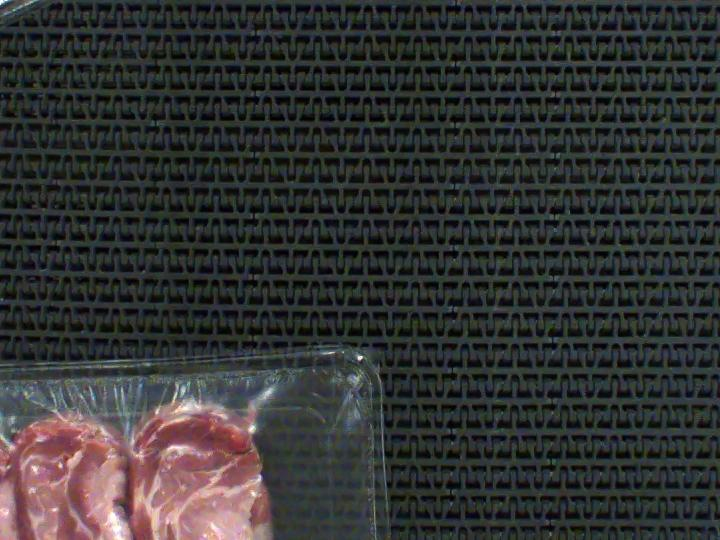unsealed: (0, 381, 318, 540)
